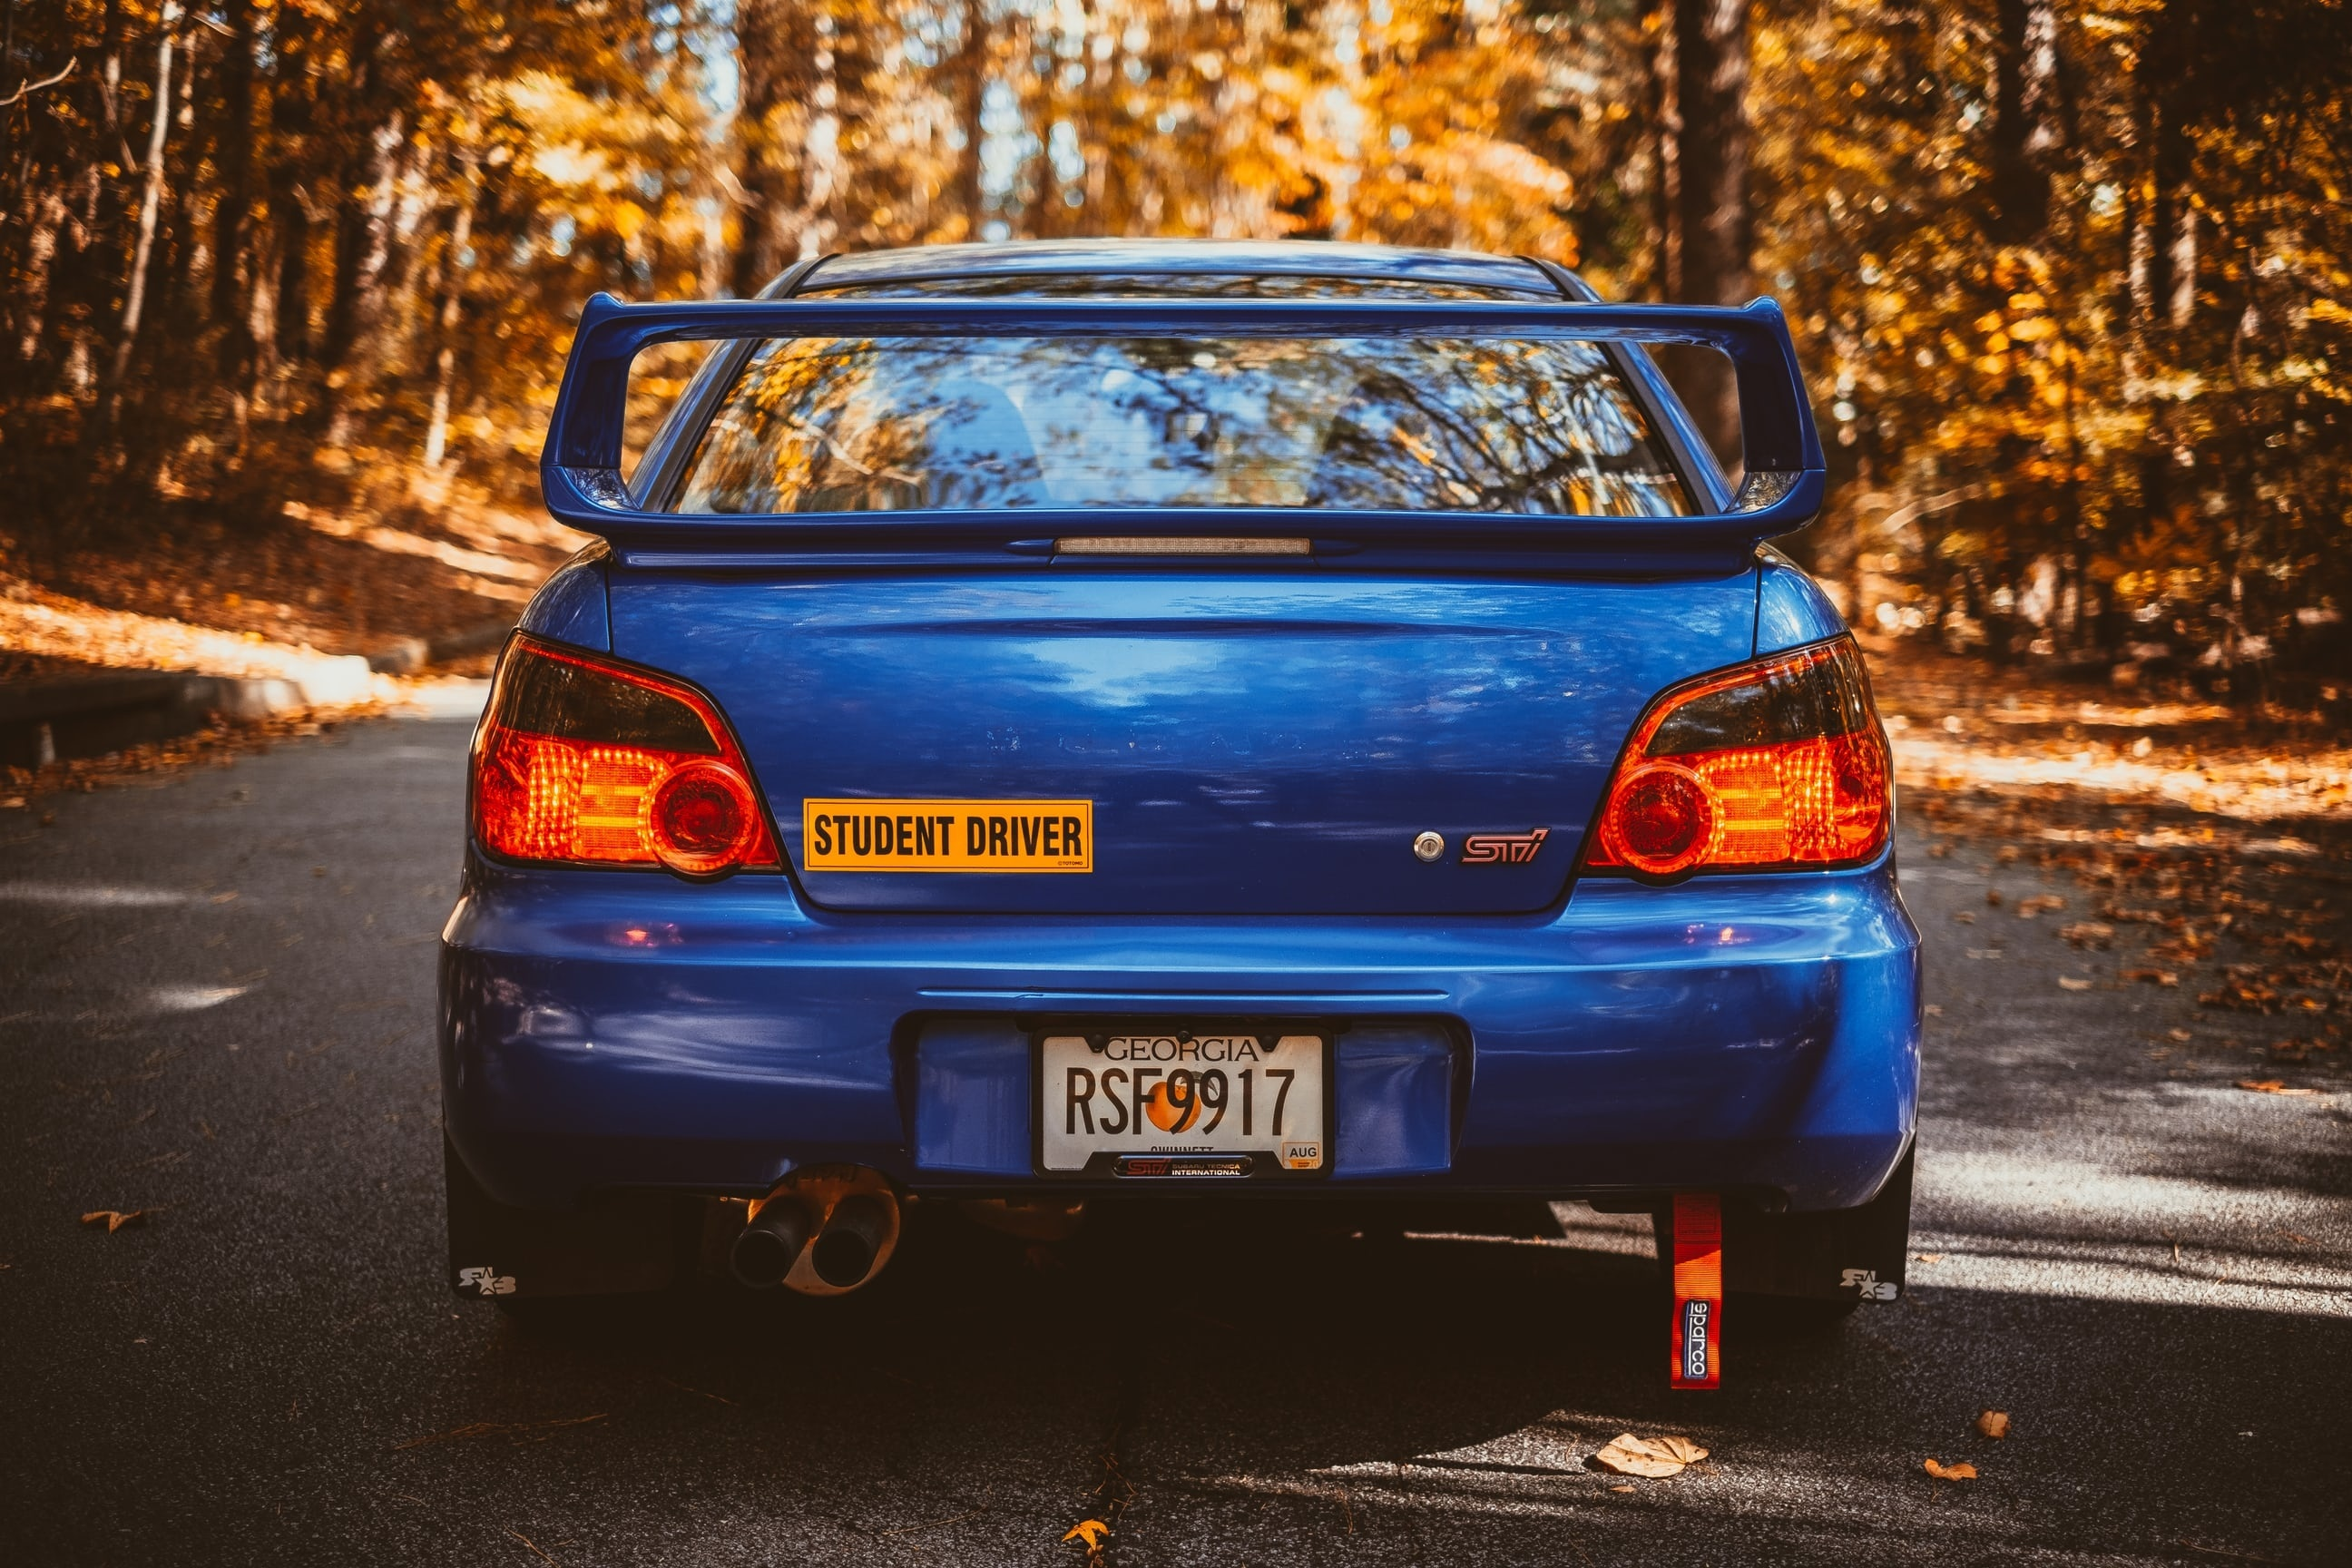plaka: (1029, 1021, 1335, 1177)
